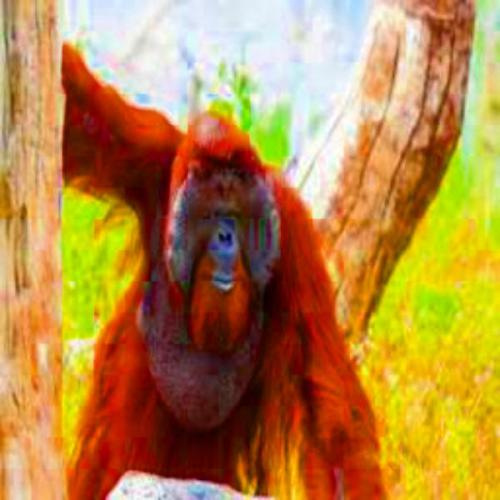orangutan-endangered: (61, 88, 372, 477)
